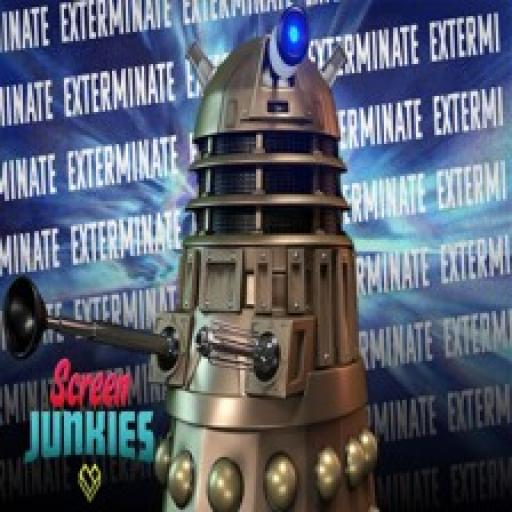dalek: (1, 10, 389, 512)
